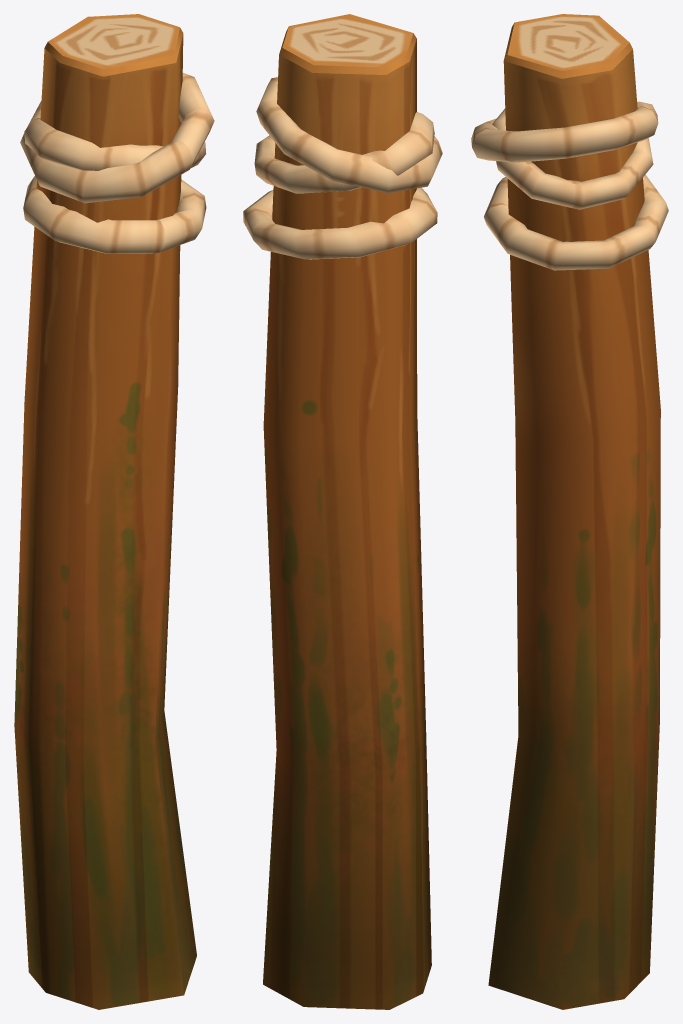
The model's file is port_post3.fbx.
3 renders of one model, left to right at view 1: azimuth 30°, elevation 25°; view 2: azimuth 150°, elevation 25°; view 3: azimuth 270°, elevation 25°, orthographic.
Visible parts, largest first — view 1: Poste3; view 2: Poste3; view 3: Poste3.
Part boxes in pixels (box(x1,y1,x2,y2)): Poste3: box(14, 14, 214, 1009); Poste3: box(243, 14, 442, 1009); Poste3: box(471, 14, 668, 1009).
Size of the model in its own units: 415 by 2226 by 428.
